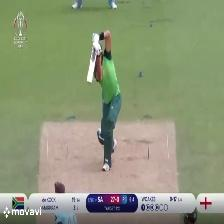batsman: (81, 25, 128, 173)
